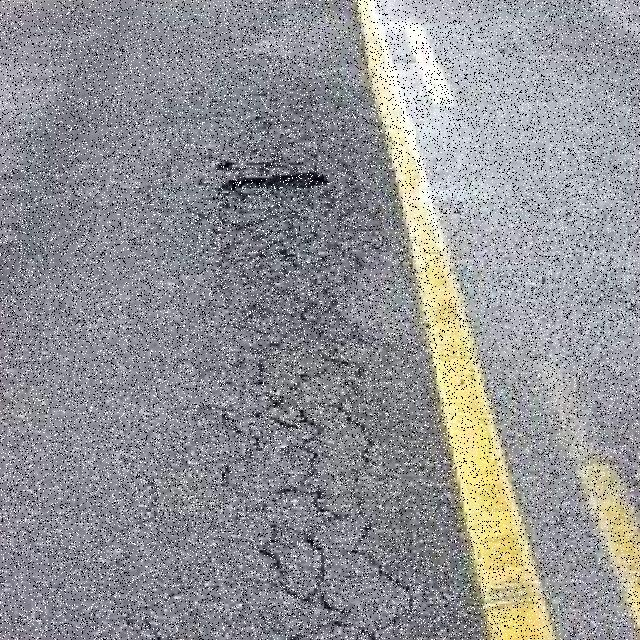pothole: (212, 163, 331, 267)
